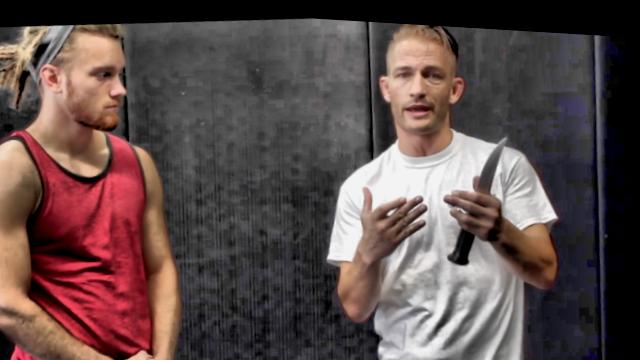knife: (433, 122, 527, 266)
